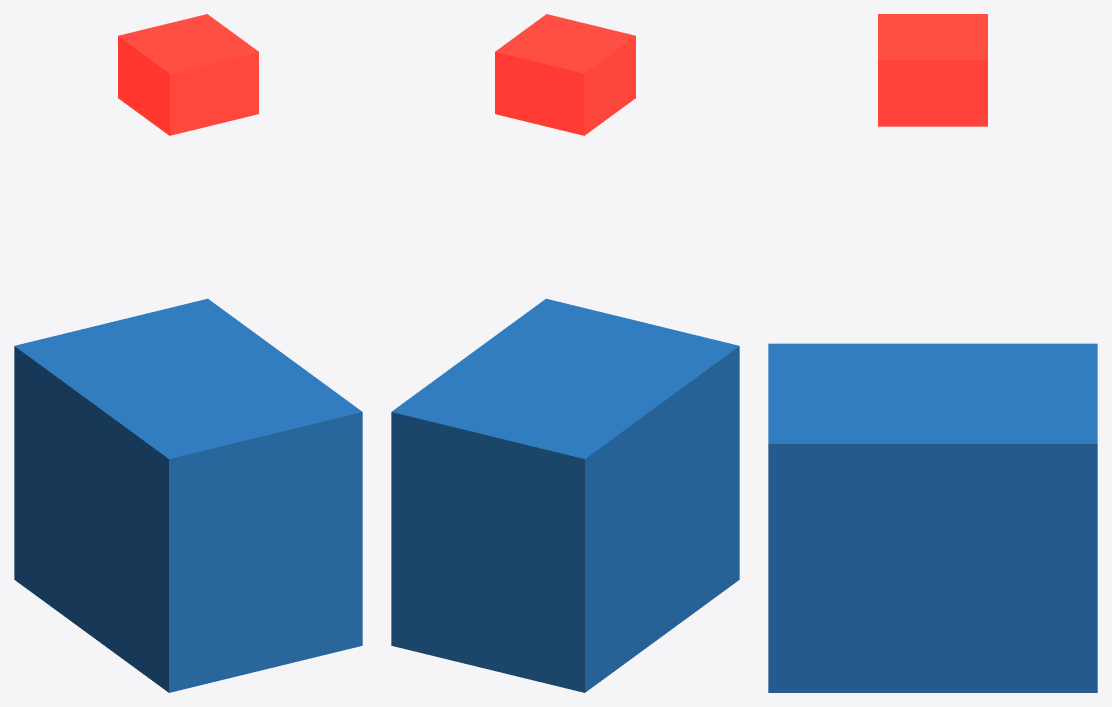
The model's file is Workpiece.gltf.
The picture shows the model from 3 angles, left to right: view 1: azimuth 30°, elevation 25°; view 2: azimuth 150°, elevation 25°; view 3: azimuth 270°, elevation 25°; orthographic projection. The views are drawn at different scales.
Visible parts, largest first — view 1: Motion, Fault; view 2: Motion, Fault; view 3: Motion, Fault.
Part boxes in pixels (left/top/right/bottom): Motion: left=14, top=298, right=362, bottom=692; Fault: left=118, top=14, right=258, bottom=135; Motion: left=391, top=298, right=739, bottom=692; Fault: left=495, top=14, right=635, bottom=135; Motion: left=768, top=343, right=1097, bottom=692; Fault: left=878, top=14, right=987, bottom=126.
Bounding box in the file's own units: 0.13 × 0.365 × 0.18.
